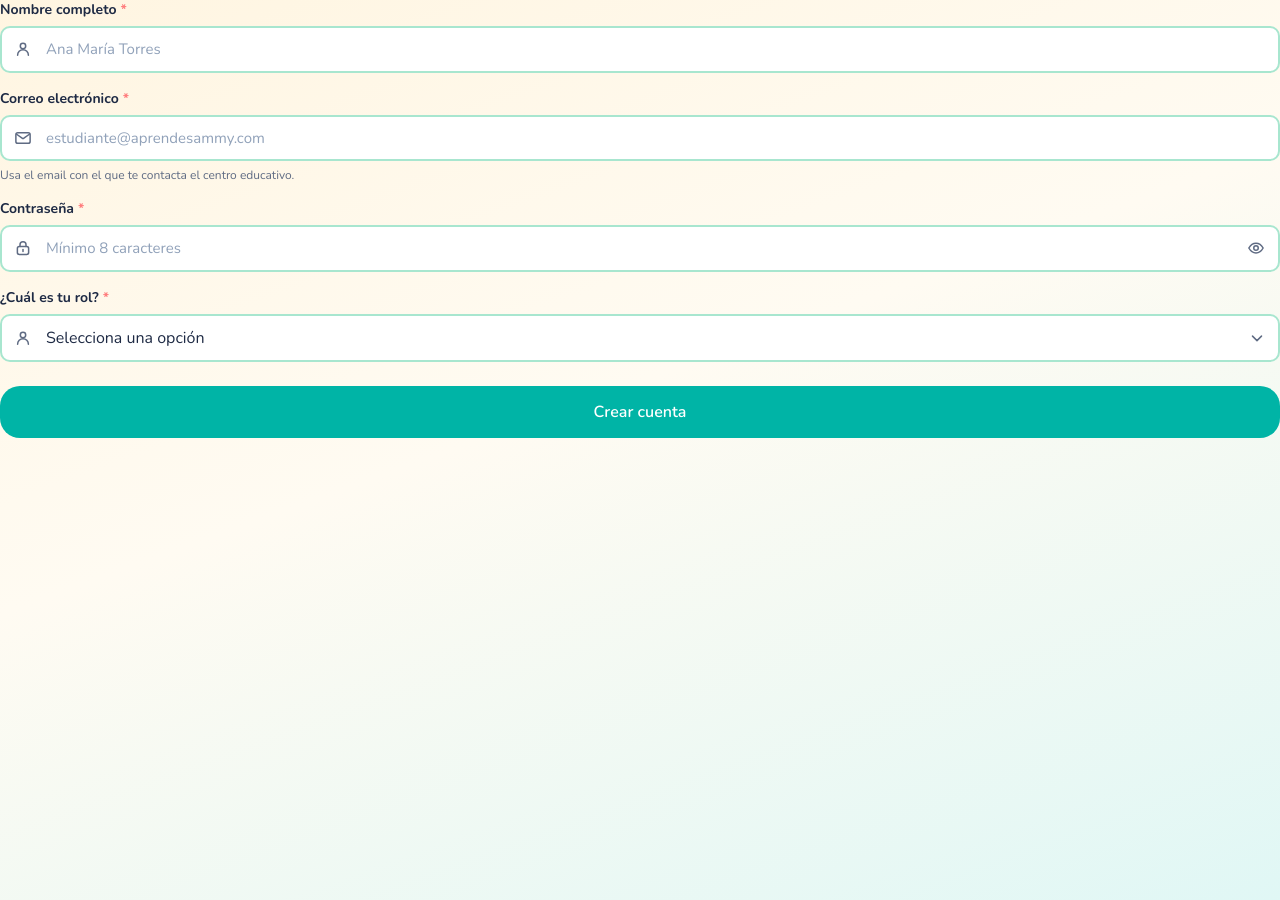
RegisterForm — validación antes de tocar la red › exige nombre y apellido
The image size is (1280, 900).
In the field labelled "Nombre completo*": (640, 49) [0,26,1279,72], type "Ana"
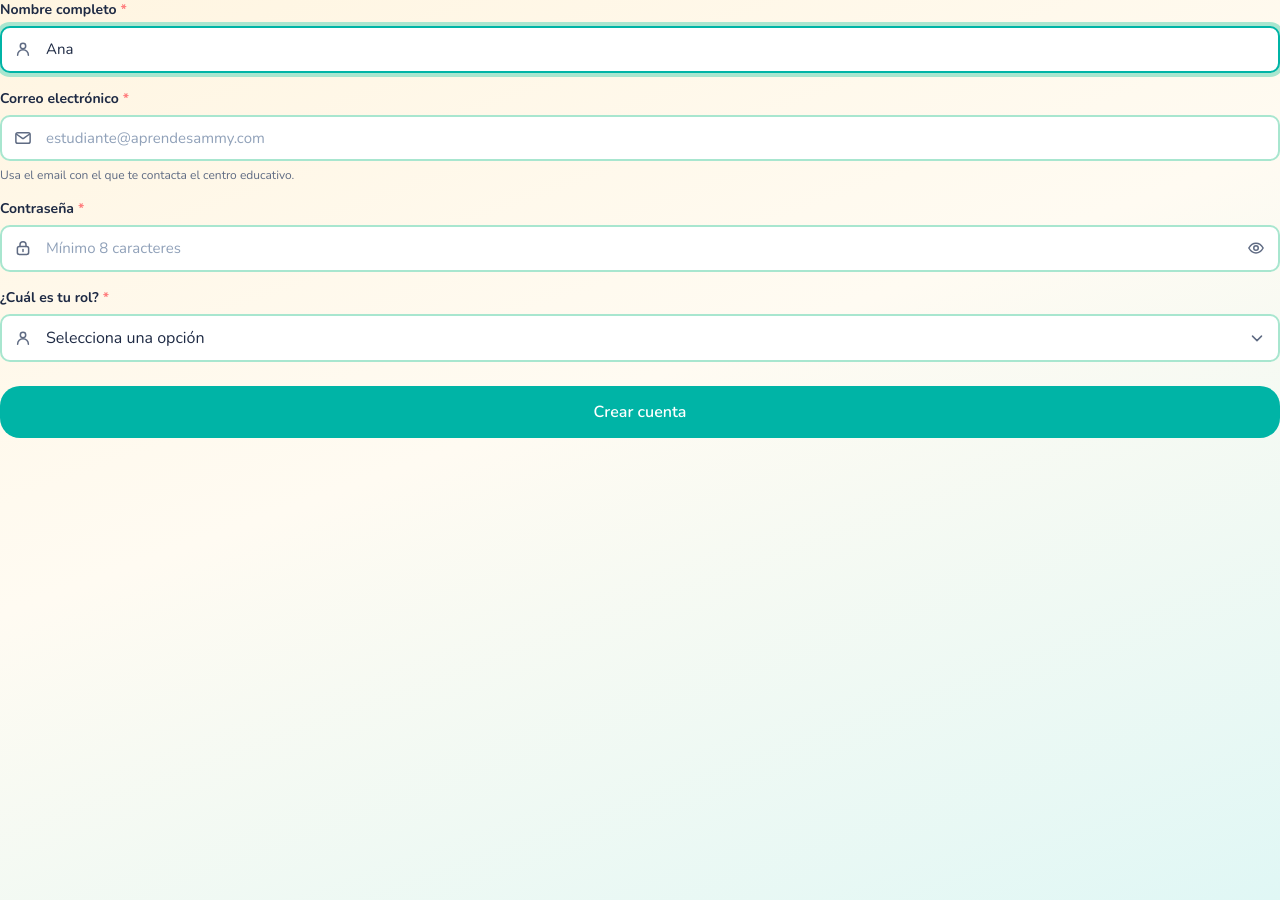
Click the button "Crear cuenta": (640, 412) [0,386,1279,438]
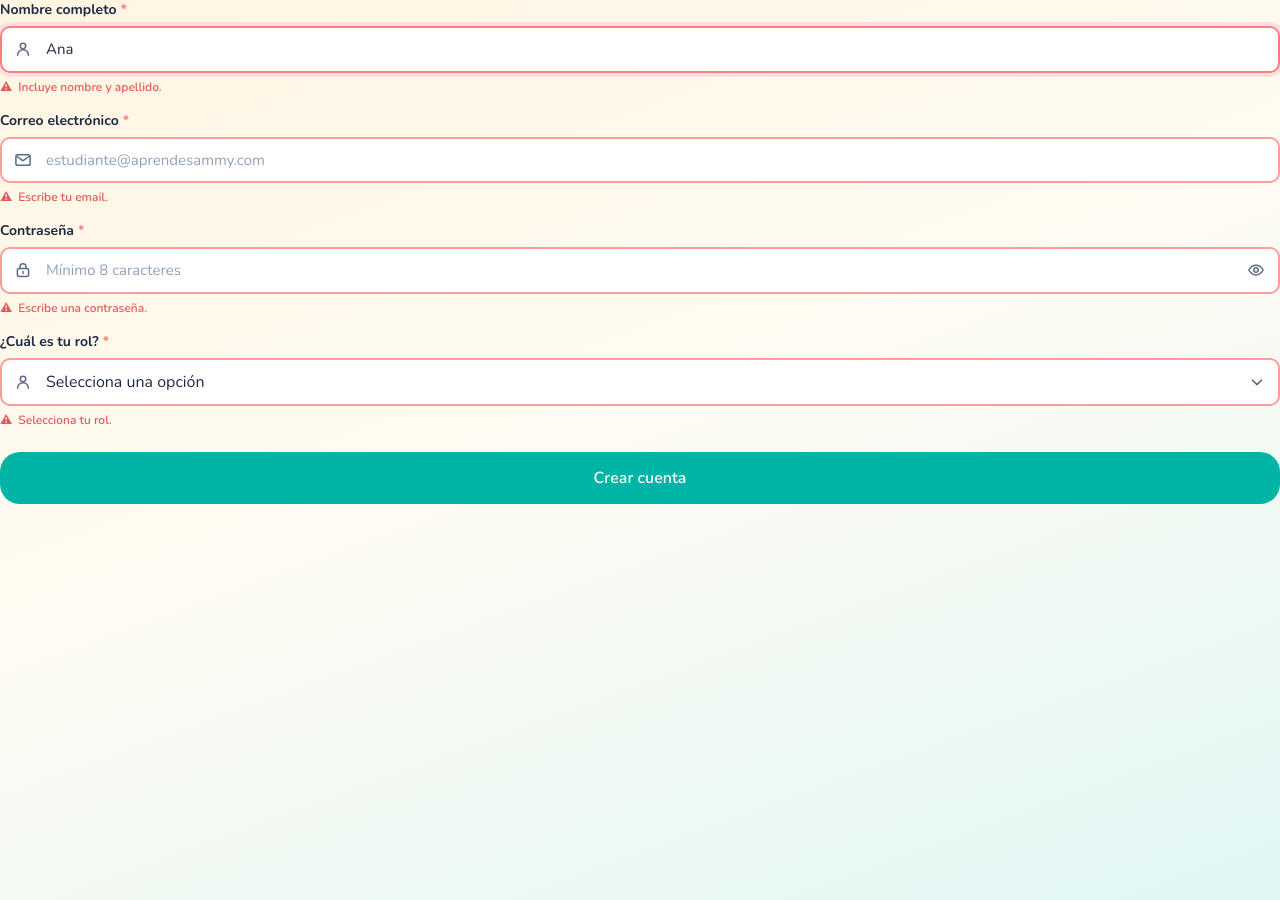
Expected: the text "Incluye nombre y apellido." is shown, [18,78,162,94]
